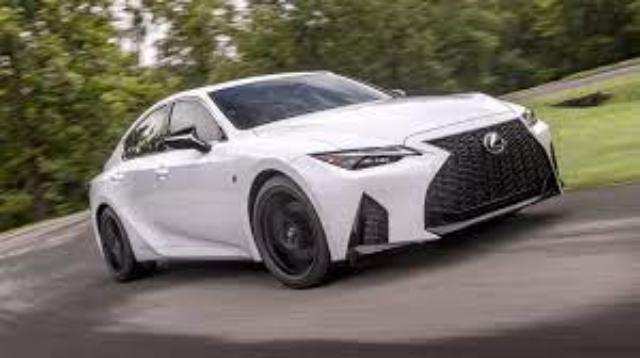lexus: (89, 71, 564, 290)
